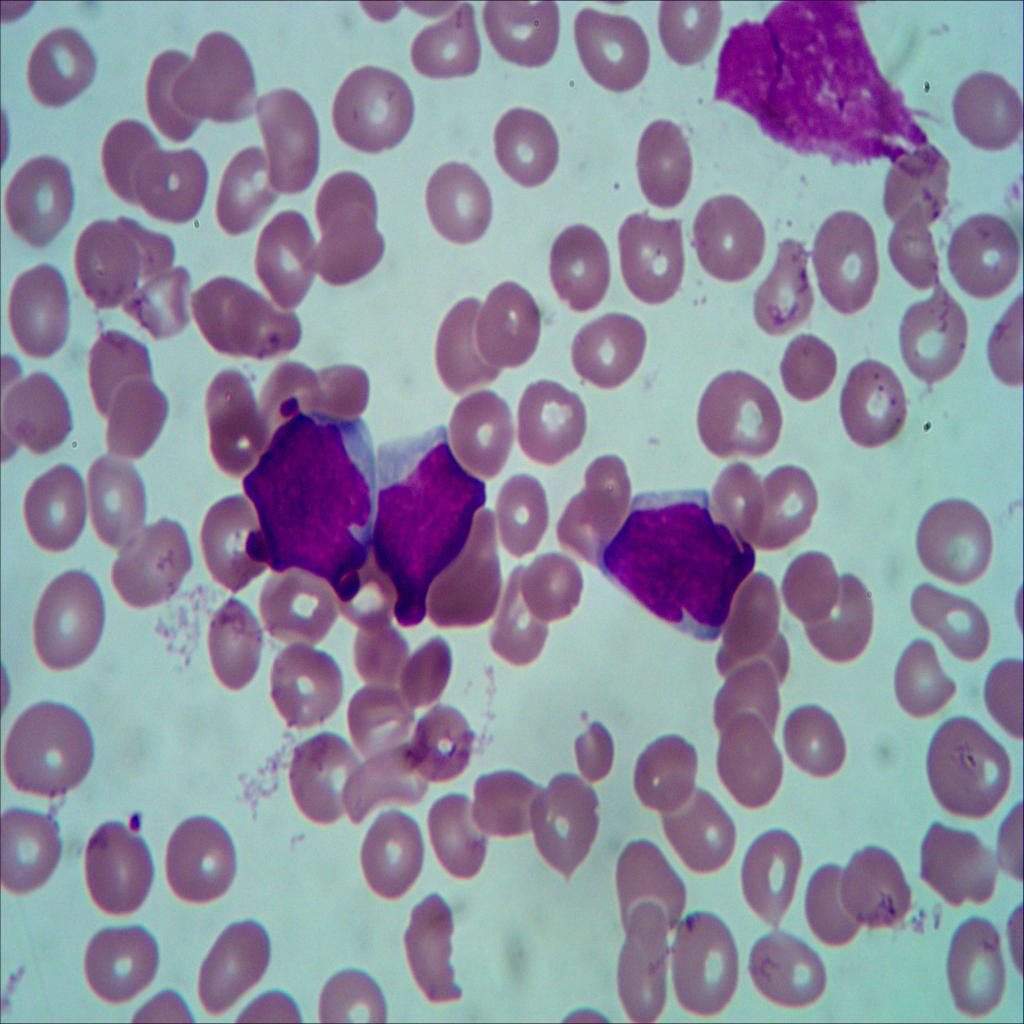Eritrosit: (910, 707, 1016, 820), (912, 809, 1010, 915), (687, 368, 793, 465), (934, 914, 1024, 1024), (0, 700, 96, 802), (431, 509, 510, 630), (196, 910, 280, 1021), (808, 209, 890, 322), (566, 0, 654, 105), (749, 918, 837, 1021), (30, 568, 112, 676), (189, 278, 298, 358), (265, 636, 353, 733), (176, 30, 262, 128), (330, 60, 418, 154), (69, 916, 165, 1002), (895, 292, 979, 390), (716, 574, 793, 680), (255, 97, 328, 208), (838, 357, 914, 463), (18, 30, 109, 118), (75, 814, 155, 914), (714, 715, 790, 820), (910, 569, 992, 666), (913, 495, 995, 591), (674, 909, 744, 1021), (688, 192, 770, 287), (195, 363, 267, 471), (251, 560, 348, 640), (163, 810, 241, 909), (396, 897, 466, 1007), (708, 652, 784, 753), (67, 211, 145, 309), (532, 774, 602, 883), (309, 202, 391, 295), (191, 495, 275, 585), (0, 154, 77, 252), (515, 370, 593, 466), (842, 844, 925, 934), (620, 203, 690, 309), (474, 276, 546, 379), (0, 260, 75, 358), (248, 206, 318, 311), (492, 98, 572, 189), (736, 828, 806, 932), (950, 58, 1022, 158), (614, 900, 672, 1024), (434, 289, 505, 390), (657, 785, 737, 874), (877, 135, 956, 225), (425, 157, 498, 254), (110, 525, 192, 609), (631, 116, 701, 214), (625, 724, 701, 814), (486, 0, 568, 83), (608, 842, 690, 925), (0, 804, 69, 902), (350, 809, 429, 894), (0, 370, 78, 456), (18, 463, 92, 552), (802, 854, 864, 960), (135, 143, 208, 233), (570, 309, 649, 392), (333, 747, 428, 816), (950, 210, 1024, 298), (749, 240, 823, 328), (442, 384, 512, 477), (482, 465, 554, 555), (805, 572, 877, 662), (424, 790, 491, 886), (402, 2, 482, 81), (749, 466, 820, 555), (85, 460, 152, 552), (543, 225, 616, 309), (474, 756, 540, 848), (203, 593, 267, 687), (772, 322, 845, 404), (287, 742, 359, 825), (784, 695, 848, 788), (86, 331, 156, 416), (214, 136, 274, 234), (894, 634, 959, 723), (132, 265, 200, 349), (652, 0, 728, 75), (146, 46, 203, 146), (307, 962, 398, 1024), (890, 195, 948, 292), (100, 114, 161, 206), (106, 381, 168, 471), (408, 703, 475, 783), (784, 544, 844, 633), (259, 354, 321, 430), (314, 168, 379, 240), (717, 465, 767, 558), (330, 555, 395, 625), (347, 618, 412, 688), (303, 354, 368, 422), (391, 636, 455, 704), (572, 720, 622, 788)
Limfoblast: (241, 398, 383, 595), (367, 428, 487, 626), (610, 486, 756, 646)
Platelet: (127, 796, 156, 842)
